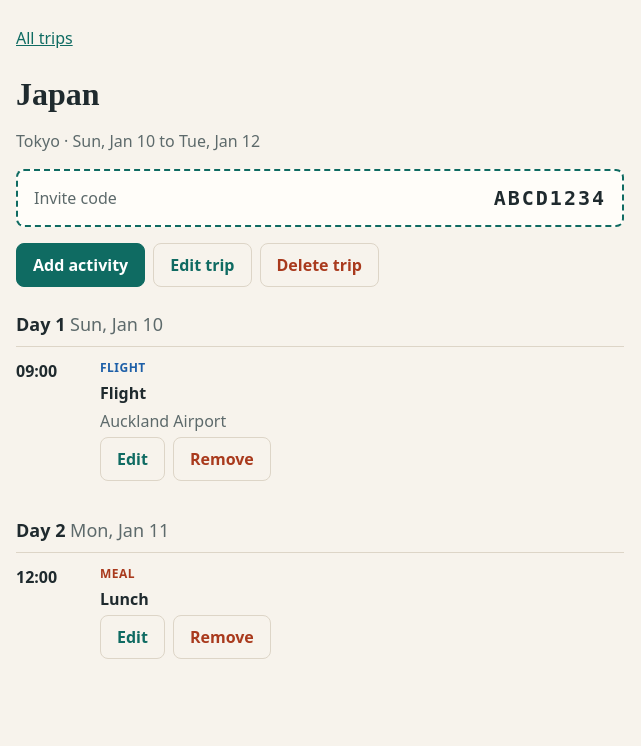
organiser › adds an activity
This screenshot has width=641, height=746.
Click the button "Add activity" at (81, 265), box [16, 243, 145, 287]
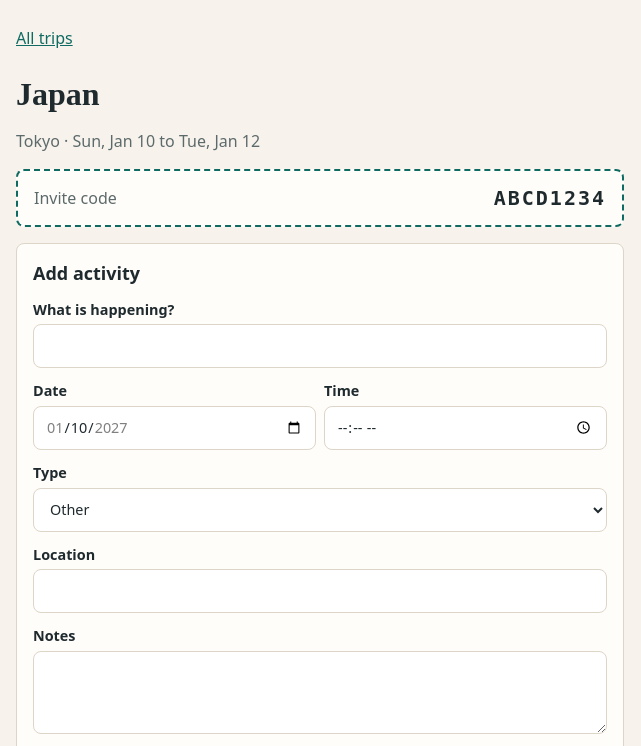
Type "Temple tour" into the field labelled "What is happening?" at (320, 346), box [33, 324, 607, 368]
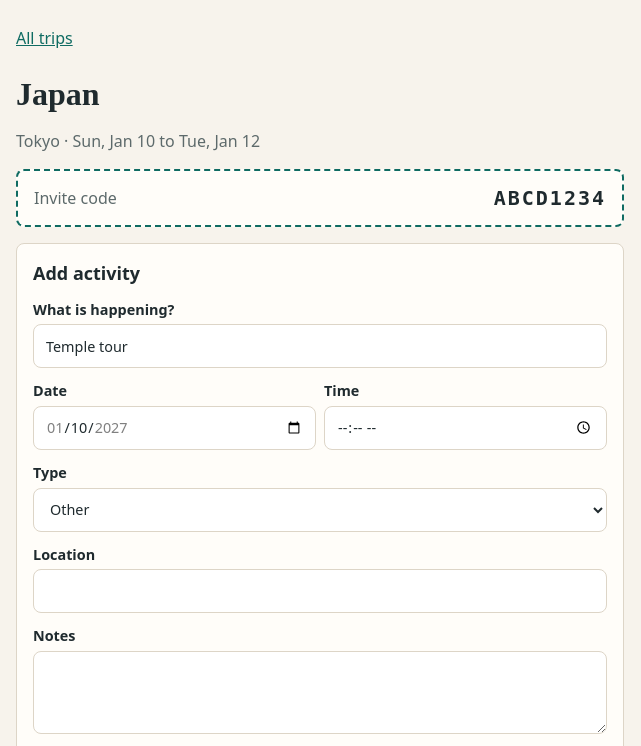
Type "2027-01-12" into the date field labelled "Date" at (174, 428), box [33, 406, 316, 450]
(page scrolled)
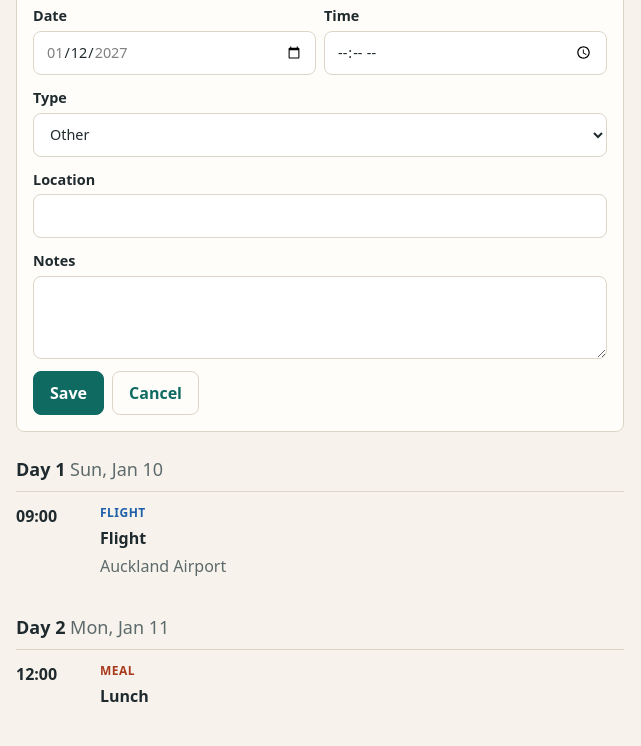
Click the button "Save" at (68, 393), box [33, 371, 104, 415]
(page scrolled)
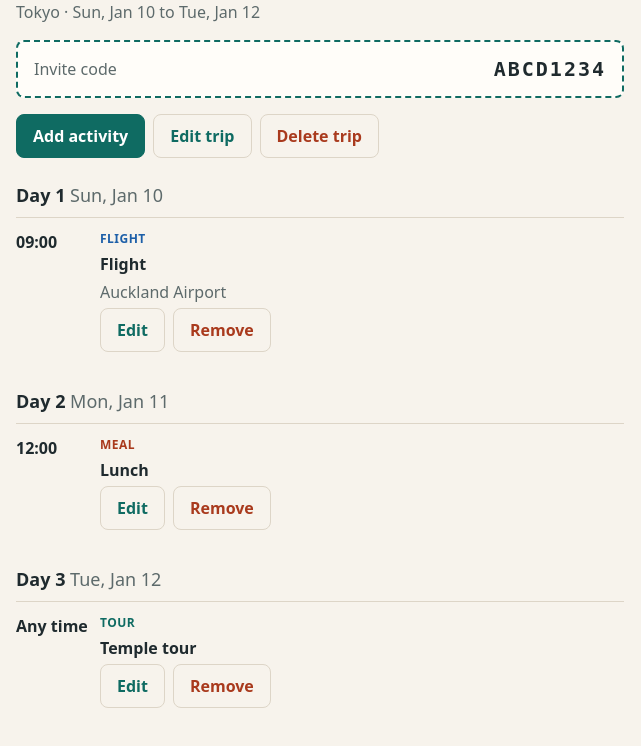
Expected: the heading "Temple tour" is shown, [100, 636, 197, 660]
